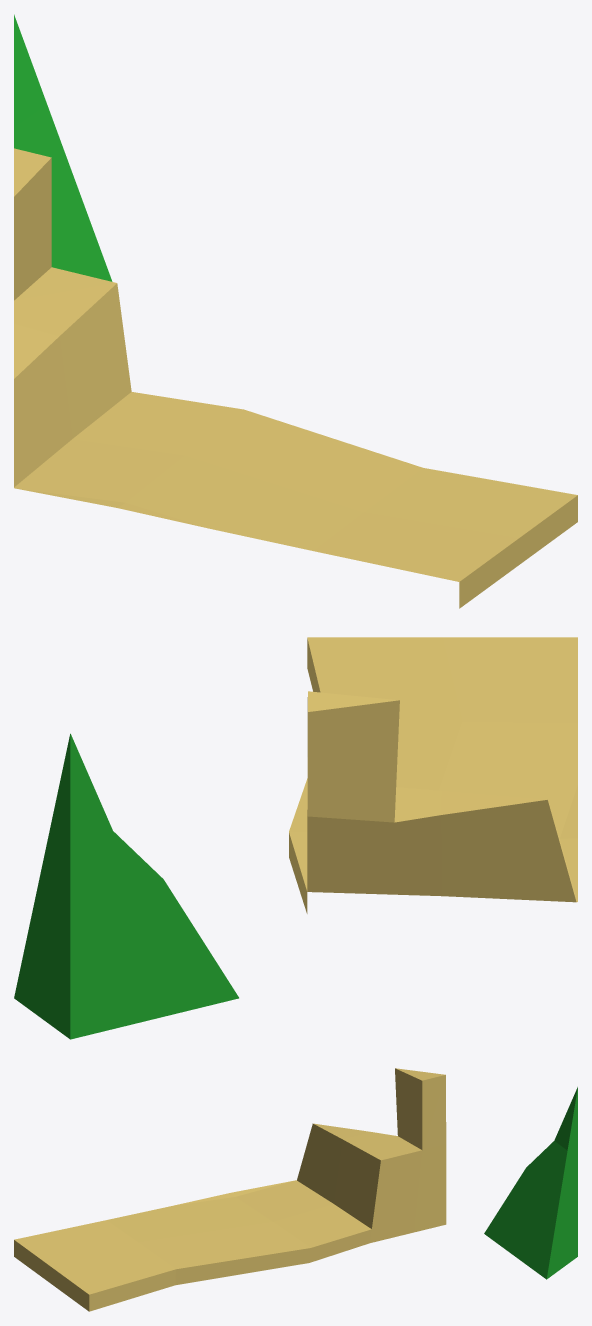
File: module-corner_land_cliff_small_stairs_002.glb
3 renders of one model, top to bottom at view 1: azimuth 30°, elevation 25°; view 2: azimuth 150°, elevation 25°; view 3: azimuth 270°, elevation 25°, orthographic. The views are drawn at different scales.
Visible parts, largest first — view 1: module-corner_land_cliff_small_stairs_002; view 2: module-corner_land_cliff_small_stairs_002; view 3: module-corner_land_cliff_small_stairs_002.
Part boxes in pixels (box(x1,y1,x2,y2)): module-corner_land_cliff_small_stairs_002: box(14, 14, 577, 608); module-corner_land_cliff_small_stairs_002: box(14, 637, 577, 1039); module-corner_land_cliff_small_stairs_002: box(14, 1068, 577, 1311).
Bounding box in the file's own units: 0.3897 × 0.25 × 0.75.
